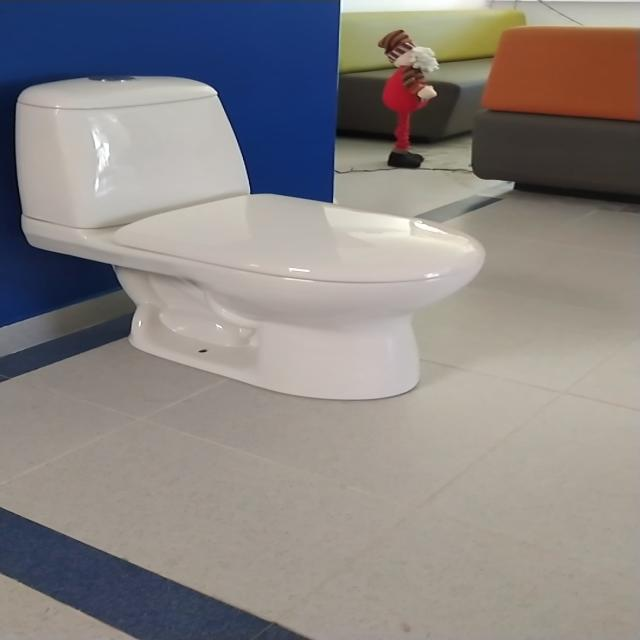toilet: (14, 74, 486, 401)
